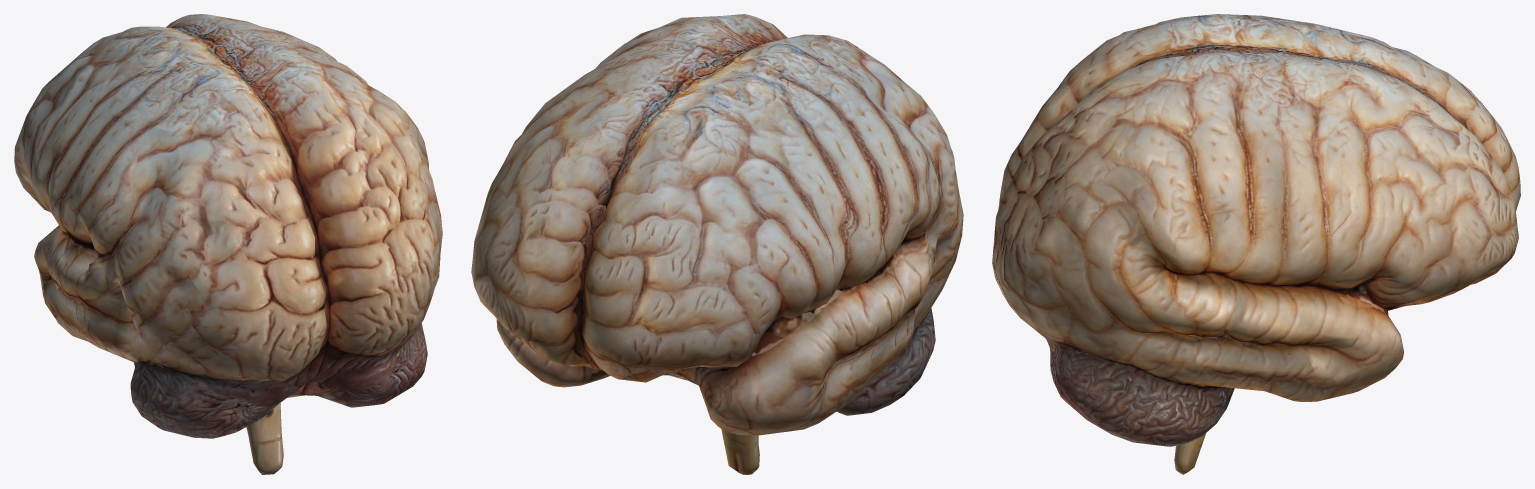
File: cortex.glb
The picture shows the model from 3 angles, left to right: view 1: azimuth 30°, elevation 25°; view 2: azimuth 150°, elevation 25°; view 3: azimuth 270°, elevation 25°; orthographic projection. The views are drawn at different scales.
Size of the model in its own units: 0.9267 by 1.08 by 1.2.
Materials: 1 (1 with a texture image).
